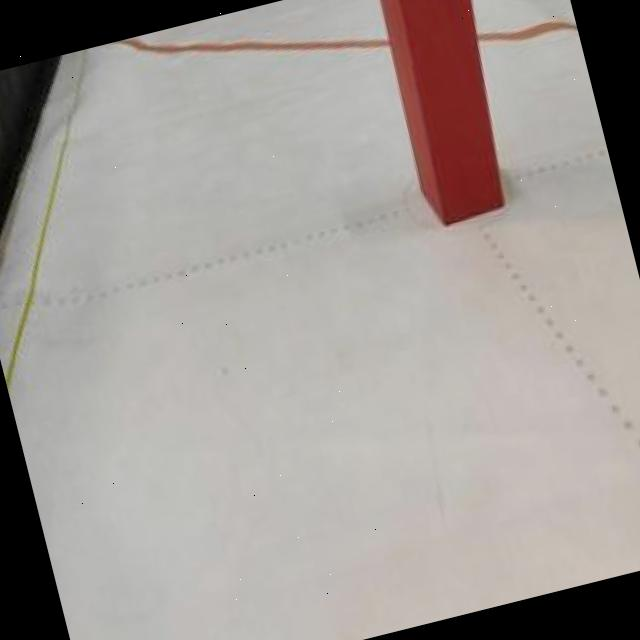redbox: (372, 0, 528, 229)
